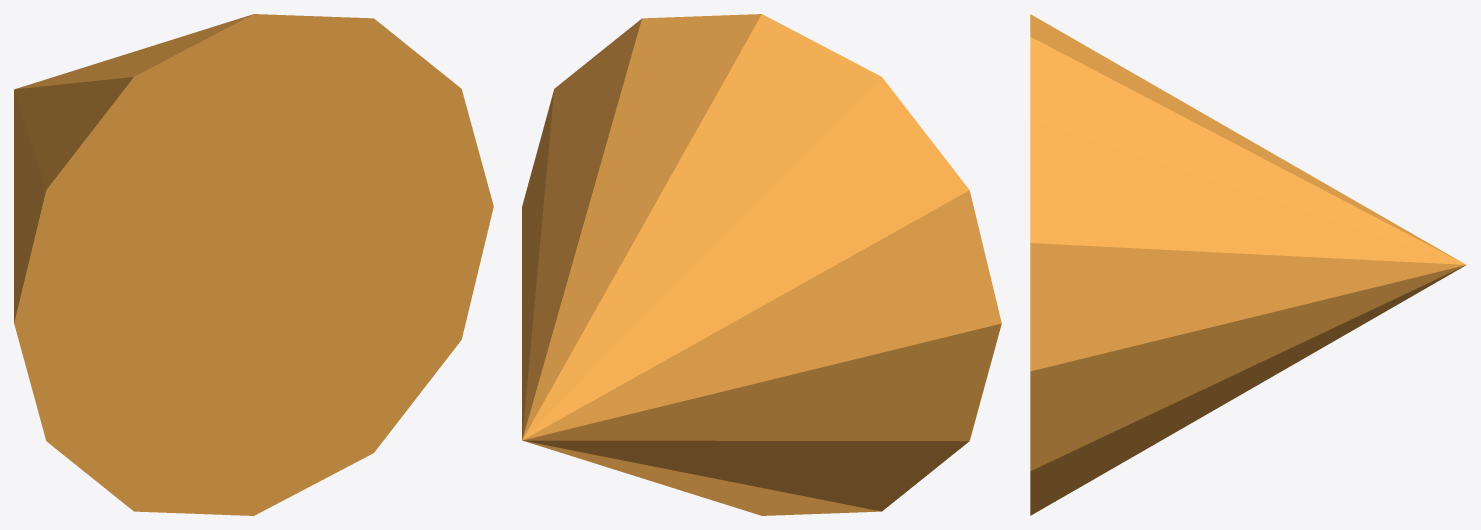
The model's file is SpotLight.glb.
The picture shows the model from 3 angles, left to right: view 1: azimuth 30°, elevation 25°; view 2: azimuth 150°, elevation 25°; view 3: azimuth 270°, elevation 25°; orthographic projection. The views are drawn at different scales.
Parts seen in each view (by area): view 1: SpotLight; view 2: SpotLight; view 3: SpotLight.
Part boxes in pixels (x1,y1,x2,y2): SpotLight: (14,14,493,515); SpotLight: (522,14,1001,515); SpotLight: (1030,14,1465,515).
Bounding box in the file's own units: 0.6928 × 0.6928 × 0.6.
Materials: 1 (1 with a texture image).
